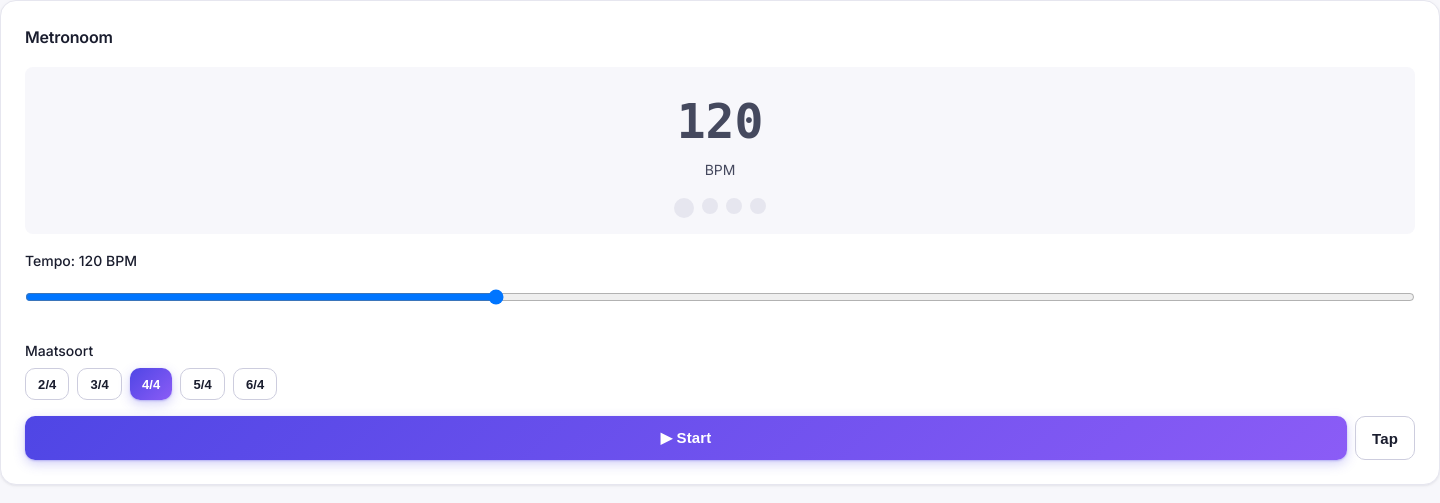
Scenario: Metronome: starten en stoppen › start op de eerste tel met een accent en toont daarna de stopknop
Step 1. Click the button "▶ Start" → (686, 438), box [25,416,1347,460]
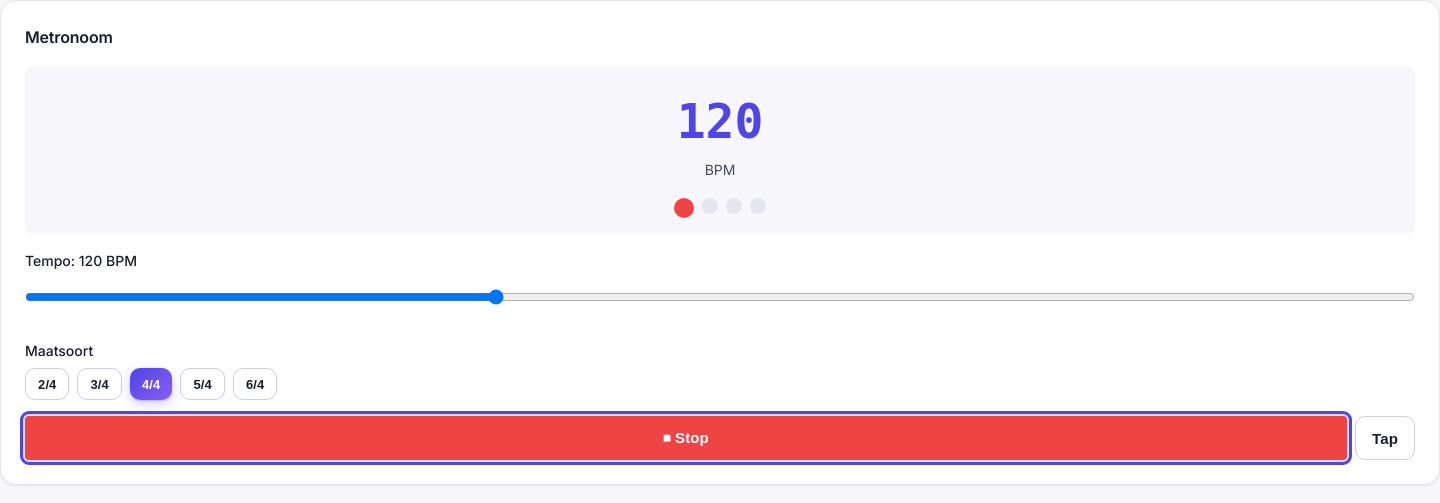
Now the button "⏹ Stop" is shown, box [25,416,1347,460]
Now the button "▶ Start" is gone
